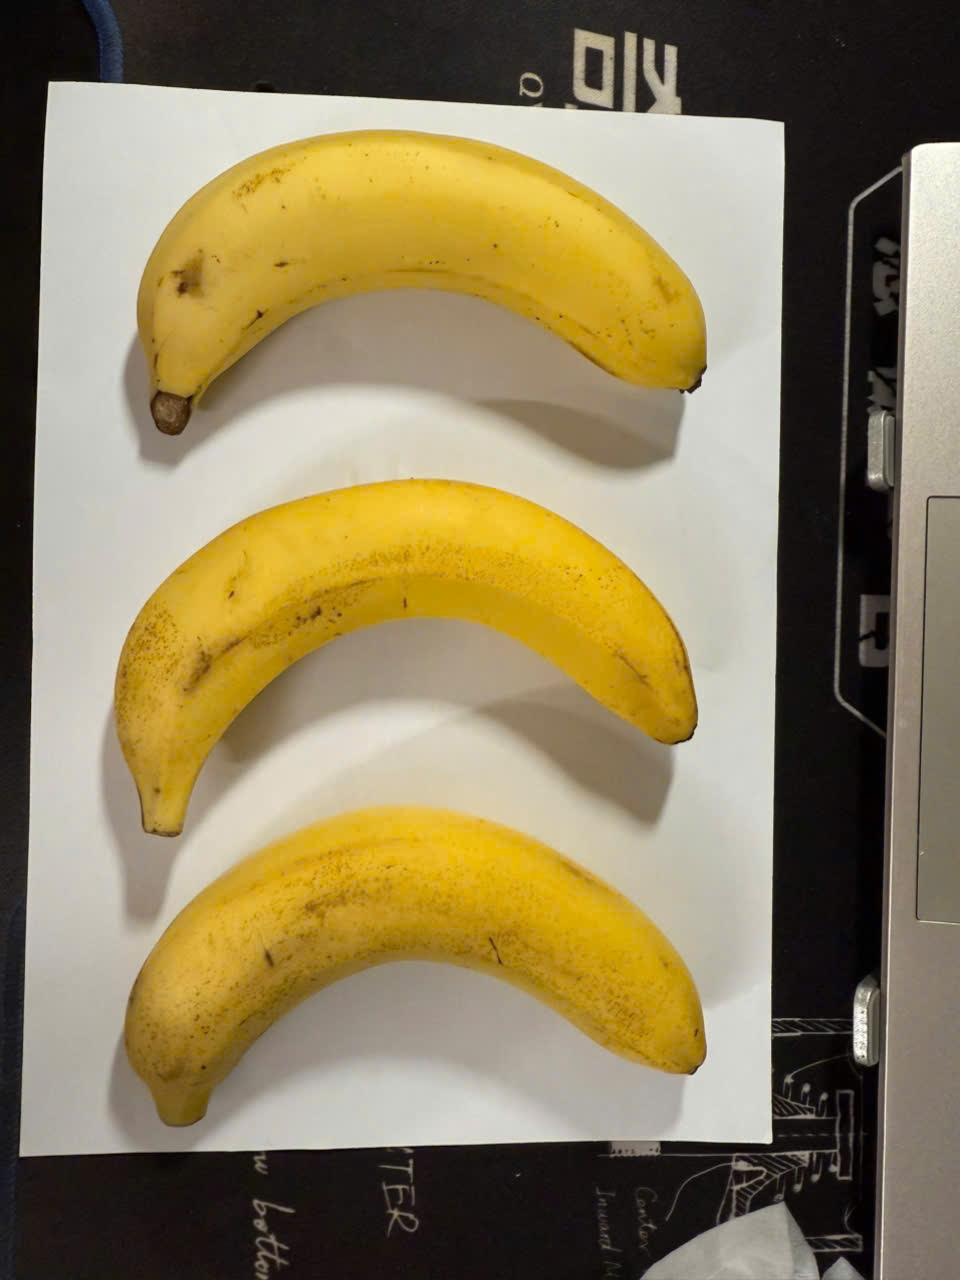banana: (75, 461, 720, 846), (75, 766, 732, 1136), (115, 118, 740, 458)
